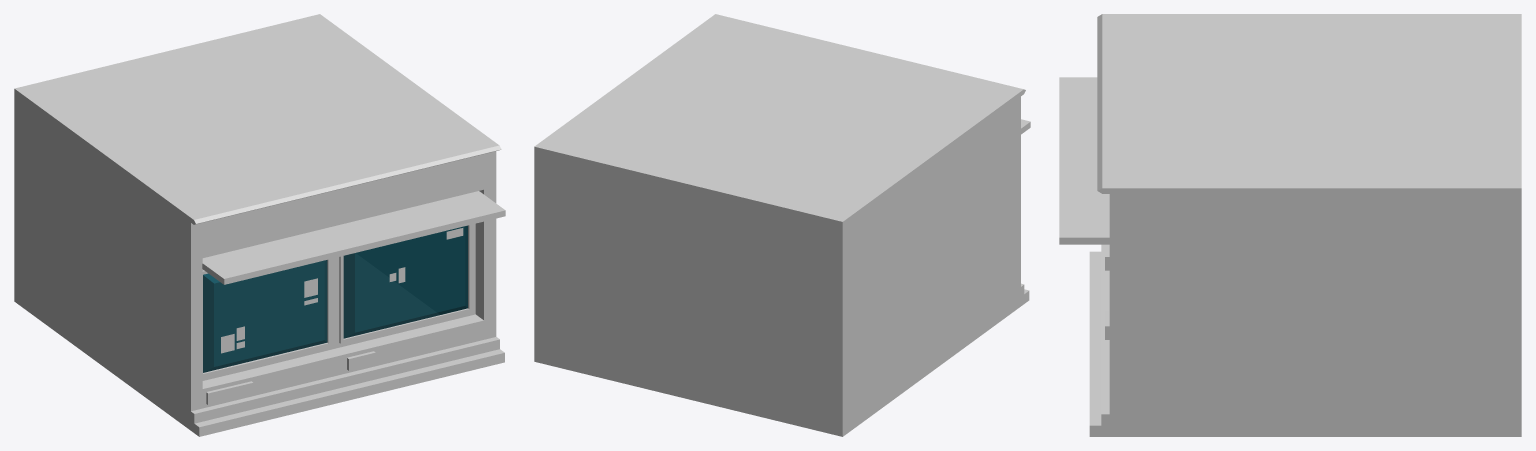
File: building_shop_05.fbx
The picture shows the model from 3 angles, left to right: view 1: azimuth 30°, elevation 25°; view 2: azimuth 150°, elevation 25°; view 3: azimuth 270°, elevation 25°; orthographic projection. The views are drawn at different scales.
Parts seen in each view (by area): view 1: building_shop_05, building_shop_05_glass; view 2: building_shop_05; view 3: building_shop_05.
Boxes of the visible parts, x1=… form: building_shop_05: x1=14, y1=14, x2=505, y2=436; building_shop_05_glass: x1=203, y1=225, x2=467, y2=372; building_shop_05: x1=534, y1=14, x2=1030, y2=436; building_shop_05: x1=1059, y1=14, x2=1521, y2=436.
Bounding box in the file's own units: 600 × 400 × 673.
